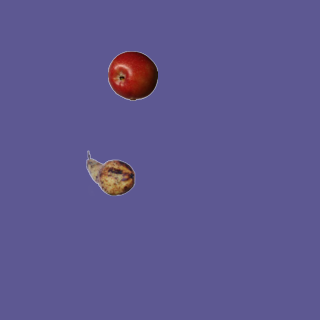Apple Braeburn: (107, 50, 157, 100)
Pear Abate: (85, 148, 135, 198)
